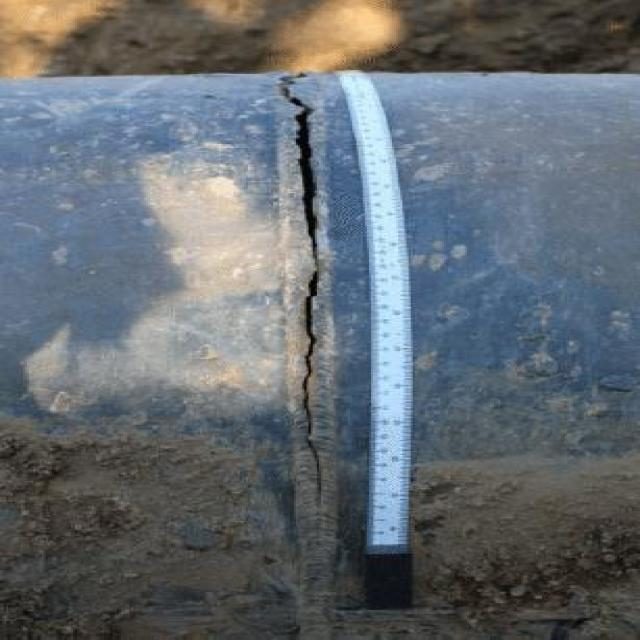crack: (276, 74, 341, 512)
